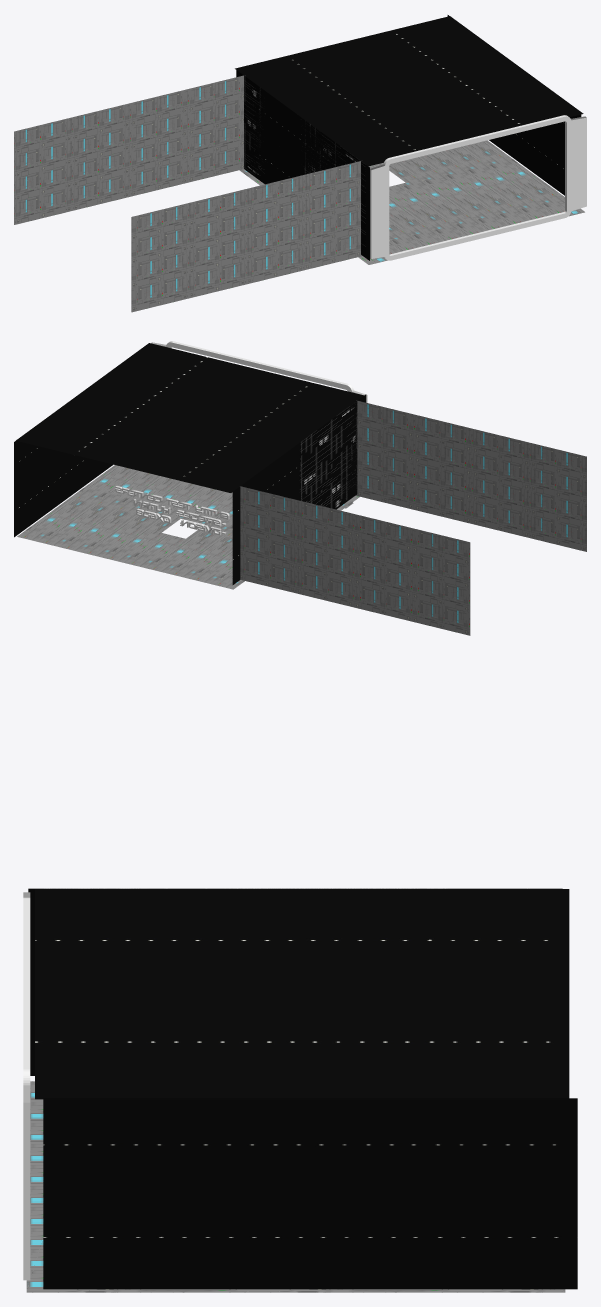
Rendered from HangarLowRes.FBX.
3 renders of one model, top to bottom at view 1: azimuth 30°, elevation 25°; view 2: azimuth 150°, elevation 25°; view 3: azimuth 270°, elevation 25°, orthographic. The views are drawn at different scales.
Visible parts, largest first — view 1: Plane006, Plane001, piso4, DD MgntFld, Plane003, Plane004, Plane002; view 2: Plane006, Plane001, piso4, Plane002, Plane004, Plane003, Text001, DD MgntFld; view 3: Plane001, Plane002, piso4, DD MgntFld, Plane003.
Part boxes in pixels (x1,y1,x2,y2): Plane006: (14, 75, 362, 312); Plane001: (235, 16, 583, 166); piso4: (239, 140, 584, 264); DD MgntFld: (370, 115, 586, 260); Plane003: (236, 70, 369, 260); Plane004: (240, 73, 365, 257); Plane002: (447, 15, 581, 195); Plane006: (240, 400, 586, 635); Plane001: (16, 343, 364, 492); piso4: (17, 465, 359, 589); Plane002: (14, 344, 147, 537); Plane004: (299, 402, 357, 509); Plane003: (232, 394, 366, 584); Text001: (115, 486, 229, 535); DD MgntFld: (151, 341, 367, 402); Plane001: (35, 889, 569, 1099); Plane002: (43, 1098, 577, 1289); piso4: (26, 1081, 565, 1292); DD MgntFld: (23, 892, 30, 1280); Plane003: (28, 888, 562, 1075).
Size of the model in its own units: 455 by 99.1 by 245.
Materials: 7 (6 with a texture image).
